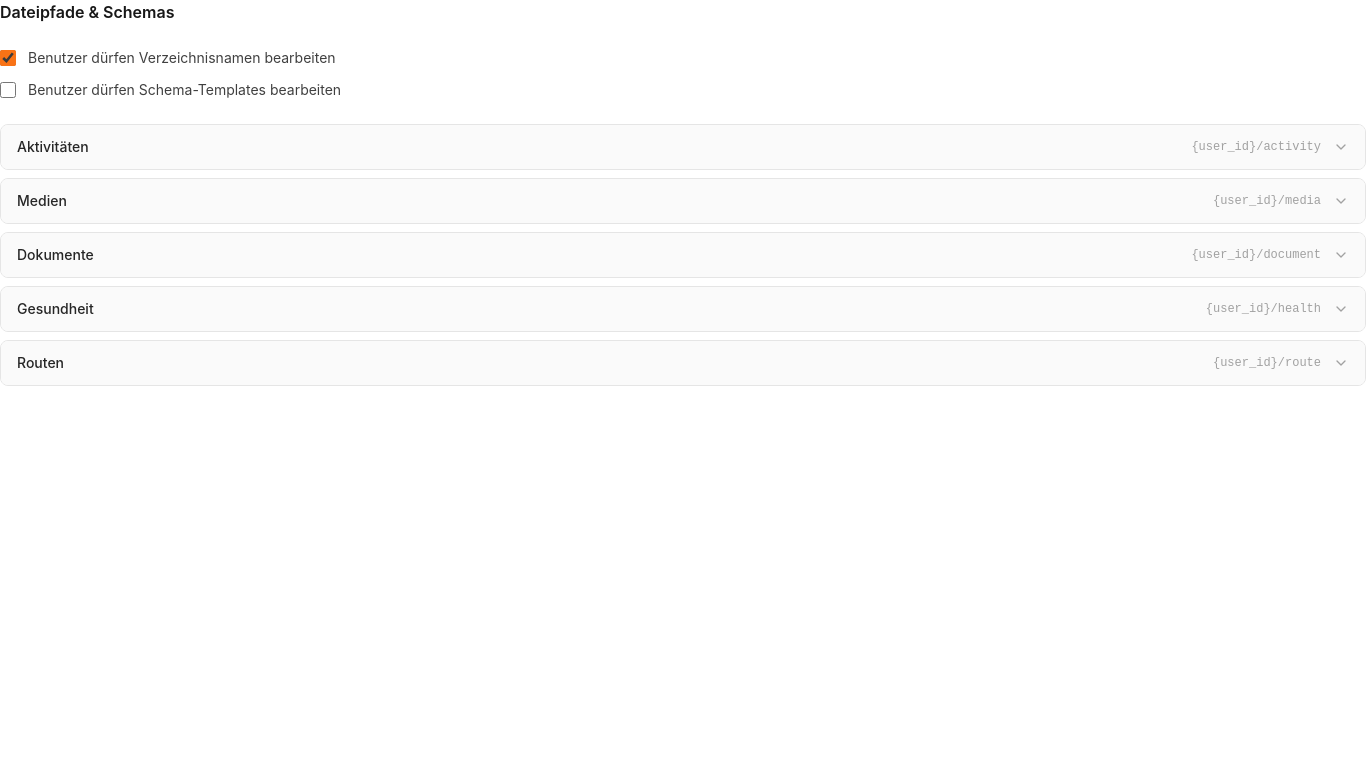
it: AdminLibrarySettingsTab › bulk-rename confirm-dialog prevents double-click
The image size is (1366, 768).
Click the button "Aktivitäten {user_id}/activity".
click(53, 146)  # box left=1, top=125, right=1365, bottom=169
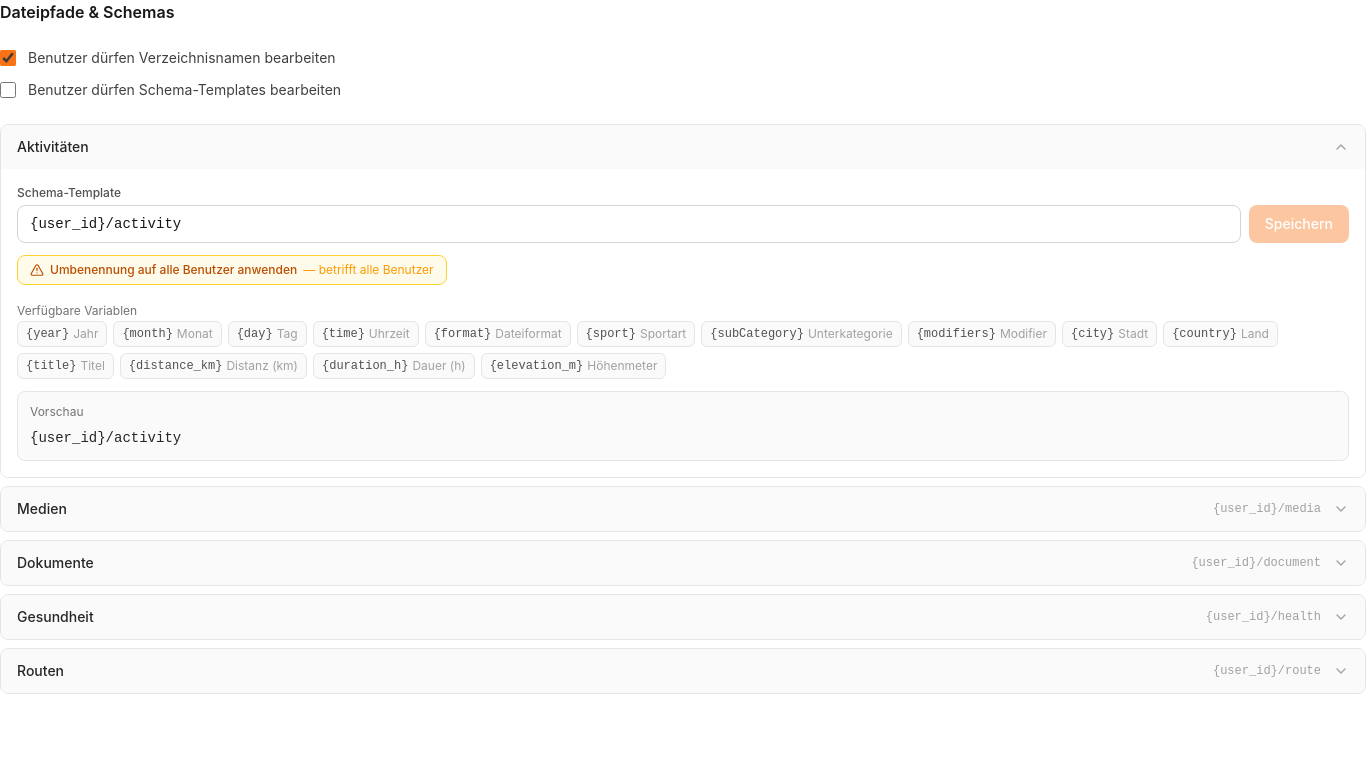
Check: the button "Umbenennung auf alle Benutzer anwenden" is shown
Click the bulk-rename trigger button.
Click the button "Umbenennung auf alle Benutzer anwenden".
click(232, 270)  # box left=17, top=255, right=447, bottom=285
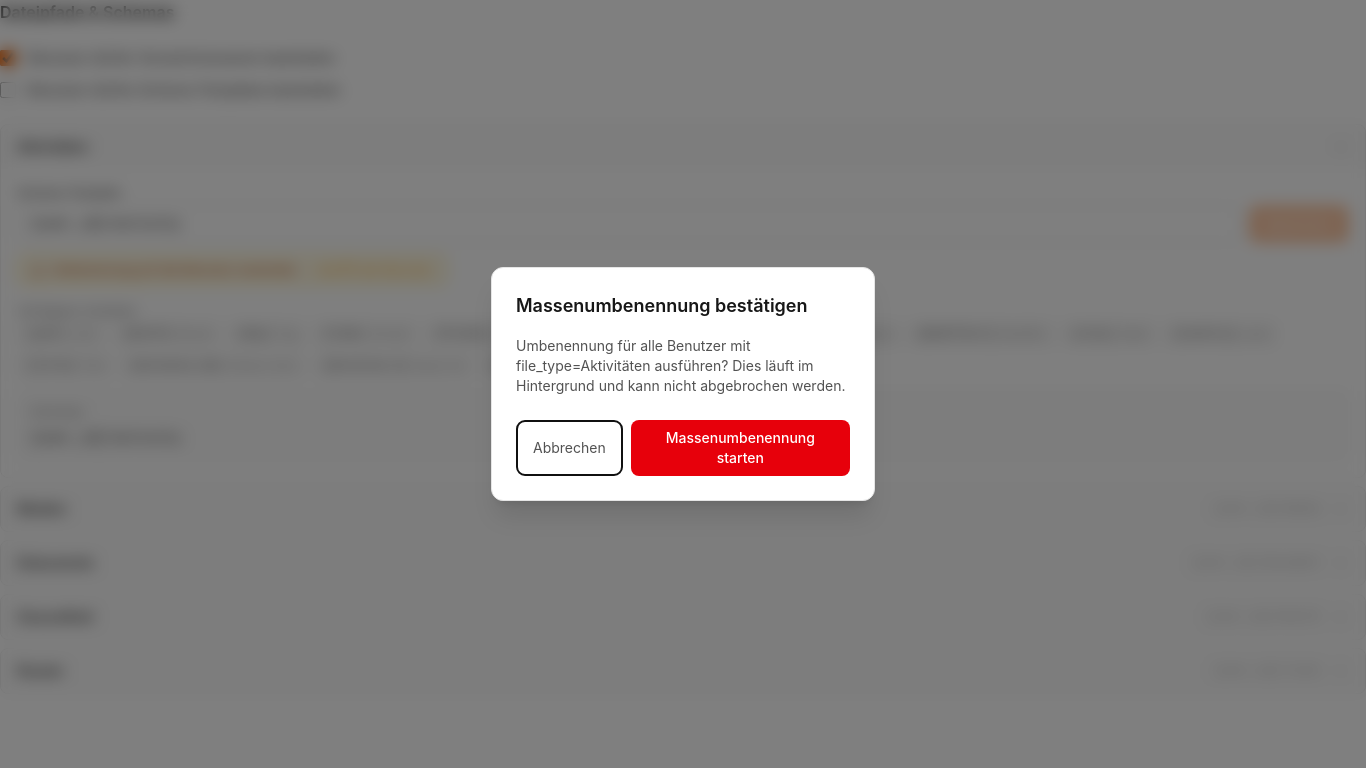
Check: the heading "Massenumbenennung bestätigen" is shown, box left=516, top=292, right=850, bottom=320
The confirm button in the modal has a distinct label, avoiding ambiguity with the trigger.
Click the button "Massenumbenennung starten".
click(740, 448)  # box left=631, top=420, right=850, bottom=476
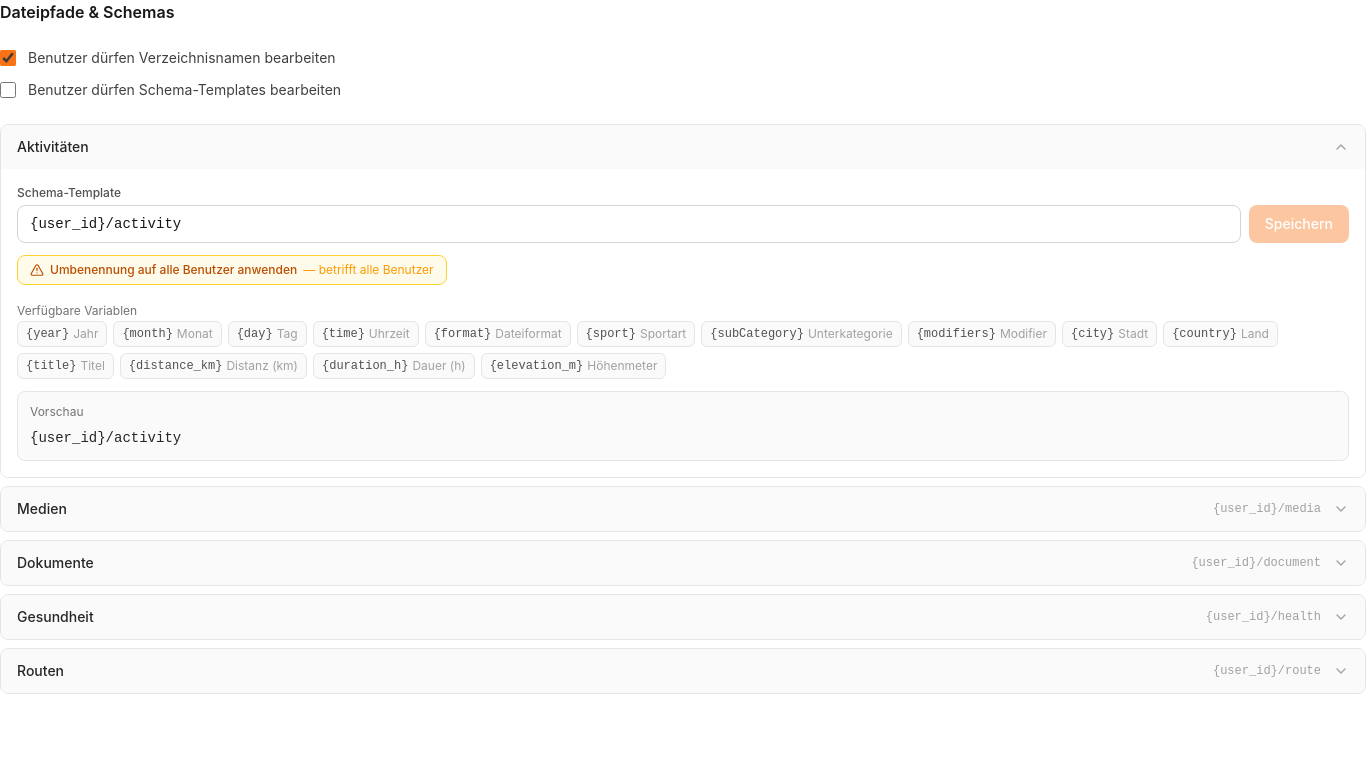
Check: the heading "Massenumbenennung bestätigen" is gone
